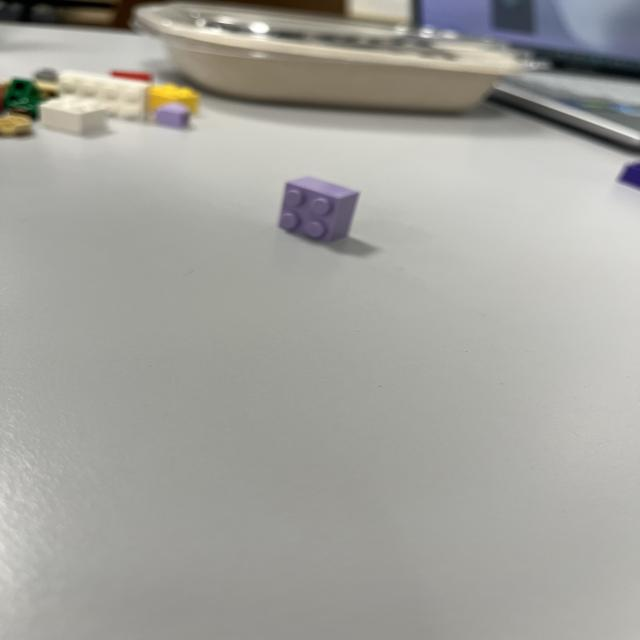C2x2x1: (277, 175, 361, 243)
